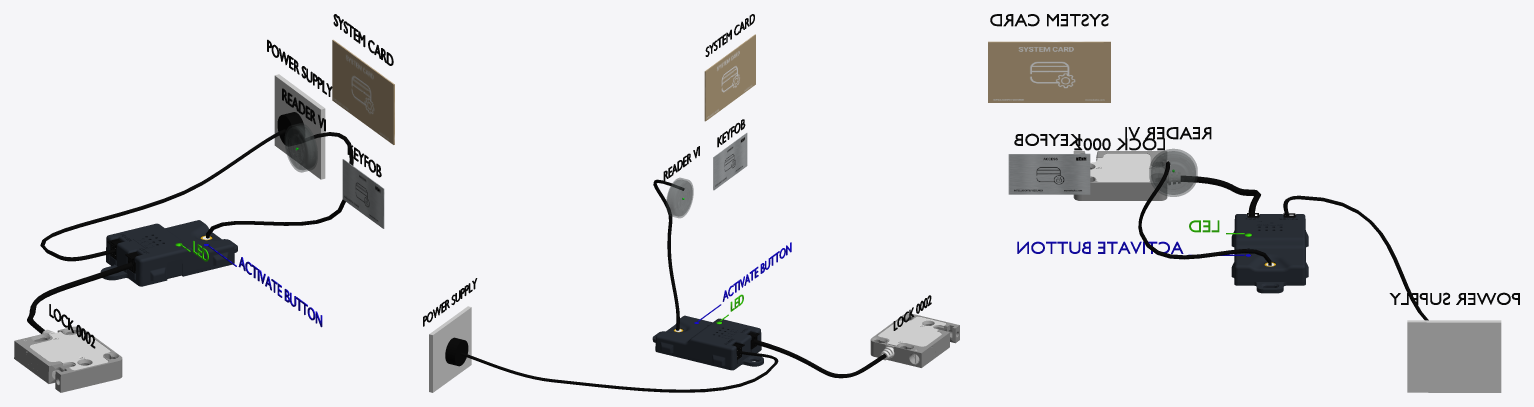
File: SCHEMA-AIR2MINI.glb
3 views of the same model, side by side, from view 1: azimuth 30°, elevation 25°; view 2: azimuth 150°, elevation 25°; view 3: azimuth 270°, elevation 25° (orthographic). The views are drawn at different scales.
Visible parts, largest first — view 1: Cylinder.015, mesh_0.001, Cube.001, Cylinder.001, Cube.004, Catenary, mesh_7, Catenary.001, Catenary.002, Text.005, Text.003, Text.006 (+2 smaller); view 2: Cylinder.015, mesh_0.001, Cube.001, Cylinder.001, Catenary, Cube.004, mesh_7, Catenary.001, Catenary.002, Text.005; view 3: Cube.001, Cylinder.001, Cylinder.015, mesh_0.001, Cube.004, mesh_7, Catenary.001, Text.005, Catenary, Text.003, Text.006, Catenary.002 (+2 smaller).
Boxes of the visible parts, <box> form: Cylinder.015: <box>100,220,237,286</box>; mesh_0.001: <box>14,326,122,392</box>; Cube.001: <box>332,39,394,144</box>; Cylinder.001: <box>274,74,325,179</box>; Cube.004: <box>342,159,384,228</box>; Catenary: <box>40,129,285,261</box>; mesh_7: <box>285,123,317,172</box>; Catenary.001: <box>206,132,353,238</box>; Catenary.002: <box>27,262,133,333</box>; Text.005: <box>208,245,322,327</box>; Text.003: <box>267,39,332,96</box>; Text.006: <box>333,14,393,65</box>; Cylinder.015: <box>652,315,763,370</box>; mesh_0.001: <box>870,313,959,367</box>; Cube.001: <box>704,34,755,121</box>; Cylinder.001: <box>429,306,471,392</box>; Catenary: <box>460,351,778,392</box>; Cube.004: <box>713,133,747,190</box>; mesh_7: <box>666,178,693,217</box>; Catenary.001: <box>653,179,684,330</box>; Catenary.002: <box>753,339,886,378</box>; Text.005: <box>697,242,791,321</box>; Cube.001: <box>988,41,1110,102</box>; Cylinder.001: <box>1407,320,1501,392</box>; Cylinder.015: <box>1231,213,1308,293</box>; mesh_0.001: <box>1073,151,1180,200</box>; Cube.004: <box>1008,153,1090,194</box>; mesh_7: <box>1149,149,1197,196</box>; Catenary.001: <box>1138,161,1271,265</box>; Text.005: <box>1017,241,1244,255</box>; Catenary: <box>1283,195,1428,320</box>; Text.003: <box>1389,292,1519,304</box>; Text.006: <box>990,14,1108,26</box>; Catenary.002: <box>1181,176,1260,215</box>.
Bounding box in the file's own units: 0.4634 × 0.3169 × 0.4929.
Materials: 36 (2 with a texture image).
